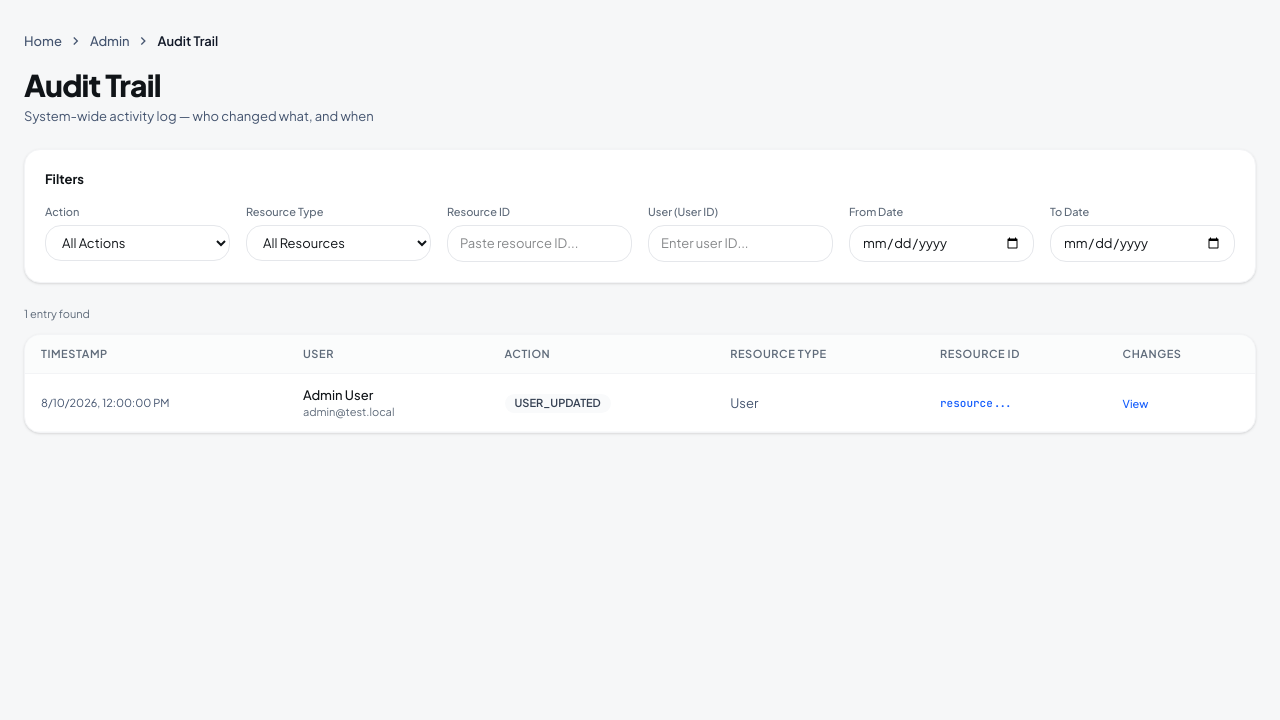
Test case: AuditTrail › renders JSON and object before/after values consistently
Expected: the text "USER_UPDATED" is shown, [504,394,611,413]
Click the button "View": {"x": 1136, "y": 404} [1123,396,1148,411]
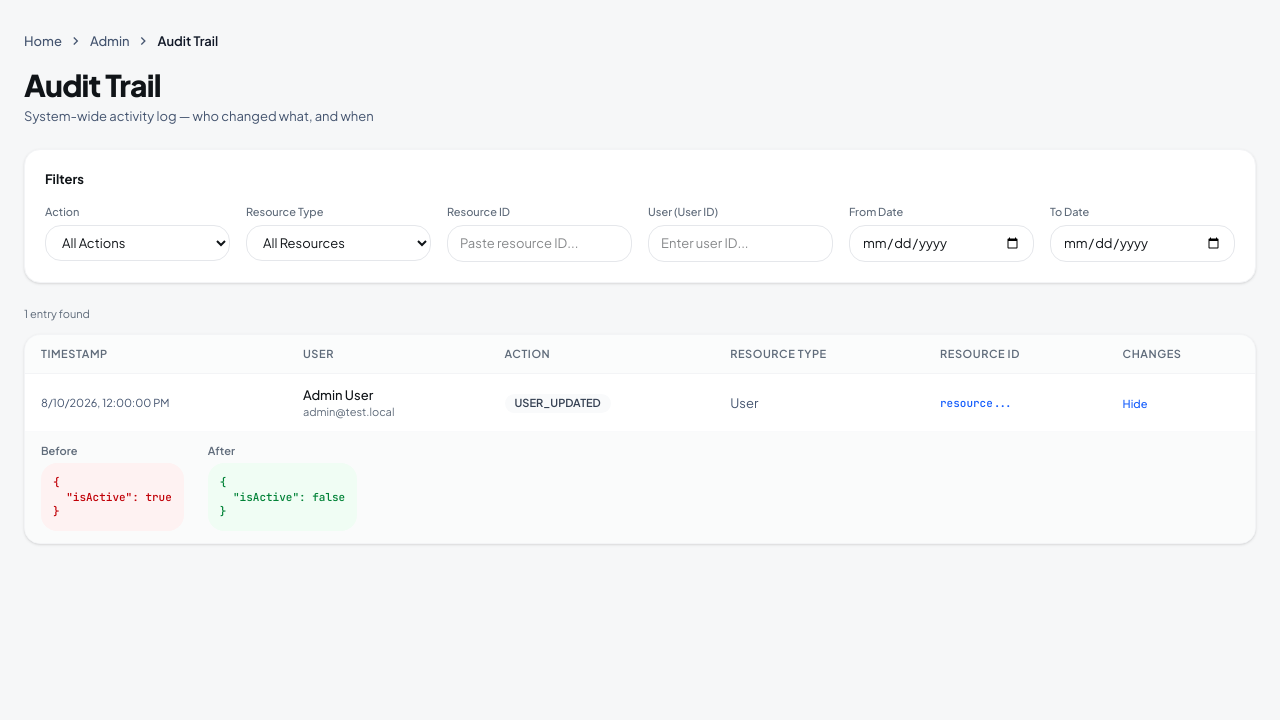
Now the text "{ \"isActive\": true }" is shown, box [41,463,184,531]
Now the text "{ \"isActive\": false }" is shown, box [208,463,357,531]
